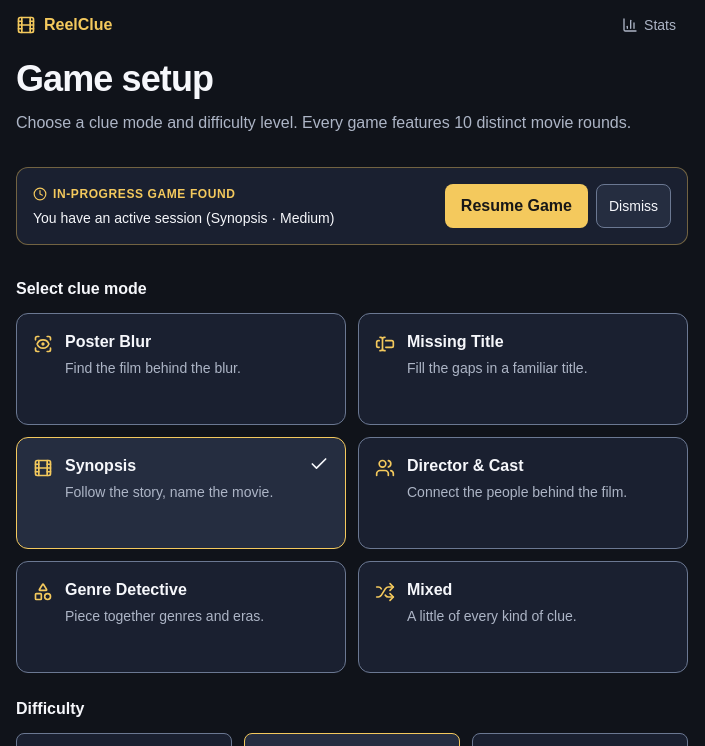
Test: PlaySetup component › displays resumable active session banner and allows dismissal
The image size is (705, 746).
Expected: the text "In-progress game found" is shown, x1=33 y1=186 x2=236 y2=202
Expected: the heading "You have an active session (Synopsis · Medium)" is shown, x1=33 y1=208 x2=334 y2=228
Note: Dismiss banner
Step 1. Click the button "Dismiss" → click(634, 206), box x1=596 y1=184 x2=671 y2=228
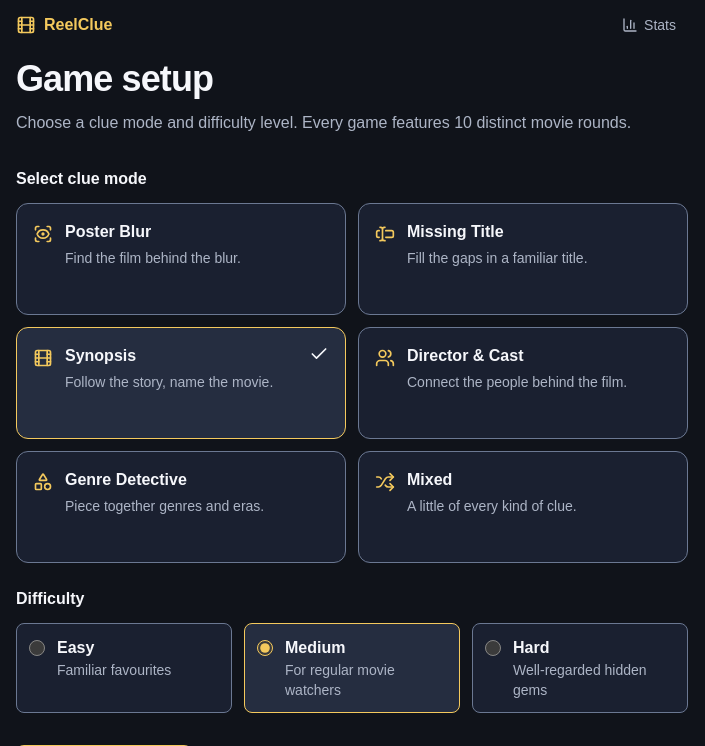
Expected: the text "In-progress game found" is gone
